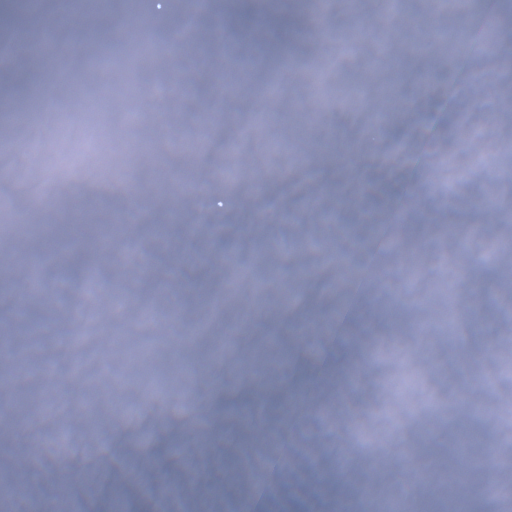Iceberg: (218, 202, 222, 206), (157, 3, 160, 8)
